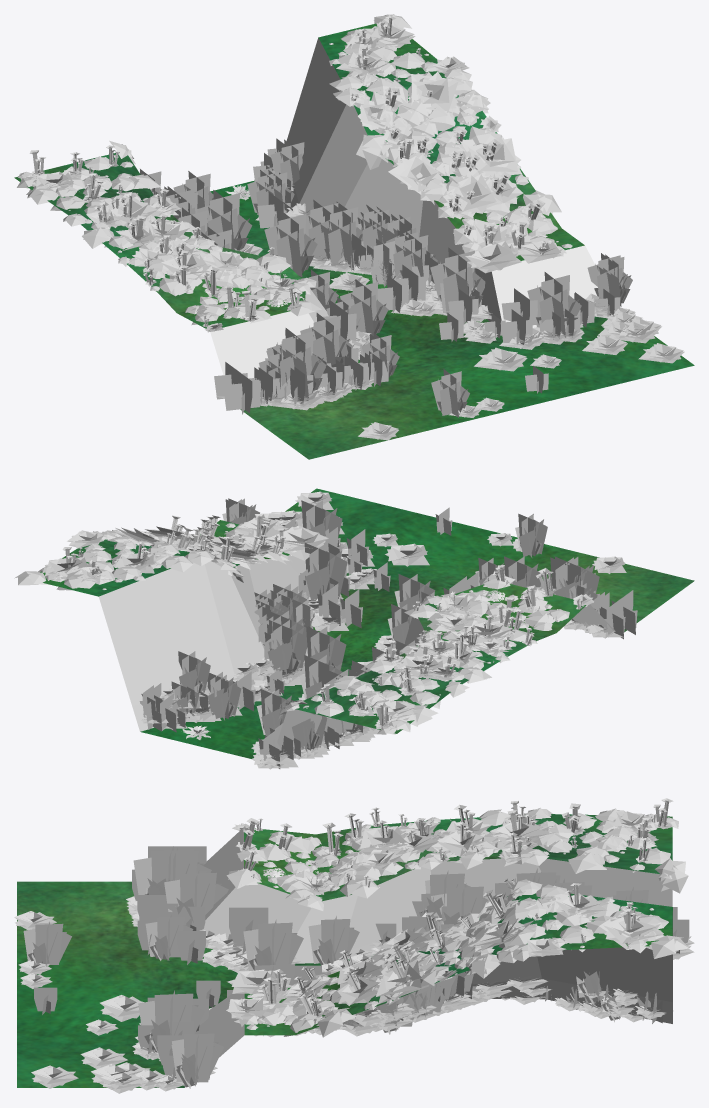
File: lowpoly_ground.fbx
The picture shows the model from 3 angles, top to bottom: view 1: azimuth 30°, elevation 25°; view 2: azimuth 150°, elevation 25°; view 3: azimuth 270°, elevation 25°; orthographic projection. The views are drawn at different scales.
Visible parts, largest first — view 1: Plane.008, Plane.008|plateA_particle|Dupli|378, Plane.008|plateA_particle|Dupli|526, Plane.008|plateA_particle|Dupli|556, Plane.008|plateA_particle|Dupli|591, Plane.008|plateA_particle|Dupli|629, Plane.008|plateA_particle|Dupli|483, Plane.008|plateA_particle|Dupli|537, Plane.008|plateA_particle|Dupli|731, Plane.008|plateC_particle|Dupli|44.3, Plane.008|plateC_particle|Dupli|46.3, Plane.008|plateA_particle|Dupli|580 (+21 smaller); view 2: Plane.008, Plane.008|plateA_particle|Dupli|526, Plane.008|plateA_particle|Dupli|471, Plane.008|plateA_particle|Dupli|378, Plane.008|plateC_particle|Dupli|23.3, Plane.008|plateA_particle|Dupli|580, Plane.008|plateA_particle|Dupli|556, Plane.008|plateA_particle|Dupli|409, Plane.008|plateA_particle|Dupli|666, Plane.008|plateA_particle|Dupli|640, Plane.008|plateA_particle|Dupli|629, Plane.008|plateA_particle|Dupli|537 (+22 smaller); view 3: Plane.008, Plane.008|plateA_particle|Dupli|537, Plane.008|plateA_particle|Dupli|556, Plane.008|plateA_particle|Dupli|731, Plane.008|plateA_particle|Dupli|672, Plane.008|plateA_particle|Dupli|736, Plane.008|plateA_particle|Dupli|603, Plane.008|plateA_particle|Dupli|580, Plane.008|plateA_particle|Dupli|420, Plane.008|plateA_particle|Dupli|530, Plane.008|plateC_particle|Dupli|44.3, Plane.008|plateB_particle|Dupli|708 (+35 smaller).
Part boxes in pixels (x1,y1,x2,y2): Plane.008: (14, 23, 694, 459); Plane.008|plateA_particle|Dupli|378: (264, 211, 317, 276); Plane.008|plateA_particle|Dupli|526: (430, 247, 485, 313); Plane.008|plateA_particle|Dupli|556: (527, 272, 581, 337); Plane.008|plateA_particle|Dupli|591: (266, 330, 325, 400); Plane.008|plateA_particle|Dupli|629: (197, 190, 252, 250); Plane.008|plateA_particle|Dupli|483: (324, 204, 362, 270); Plane.008|plateA_particle|Dupli|537: (340, 279, 388, 335); Plane.008|plateA_particle|Dupli|731: (300, 313, 351, 365); Plane.008|plateC_particle|Dupli|44.3: (459, 136, 521, 176); Plane.008|plateC_particle|Dupli|46.3: (408, 71, 458, 115); Plane.008|plateA_particle|Dupli|580: (431, 369, 469, 417); Plane.008: (40, 488, 694, 758); Plane.008|plateA_particle|Dupli|526: (304, 542, 347, 599); Plane.008|plateA_particle|Dupli|471: (268, 620, 307, 678); Plane.008|plateA_particle|Dupli|378: (305, 626, 346, 670); Plane.008|plateC_particle|Dupli|23.3: (267, 525, 328, 560); Plane.008|plateA_particle|Dupli|580: (515, 513, 547, 557); Plane.008|plateA_particle|Dupli|556: (297, 500, 342, 537); Plane.008|plateA_particle|Dupli|409: (207, 675, 241, 720); Plane.008|plateA_particle|Dupli|666: (178, 651, 210, 693); Plane.008|plateA_particle|Dupli|640: (256, 689, 291, 736); Plane.008|plateA_particle|Dupli|629: (299, 655, 342, 699); Plane.008|plateA_particle|Dupli|537: (394, 574, 435, 610); Plane.008: (17, 814, 672, 1087); Plane.008|plateA_particle|Dupli|537: (243, 919, 303, 970); Plane.008|plateA_particle|Dupli|556: (138, 990, 205, 1052); Plane.008|plateA_particle|Dupli|731: (164, 869, 228, 922); Plane.008|plateA_particle|Dupli|672: (171, 1037, 221, 1088); Plane.008|plateA_particle|Dupli|736: (308, 916, 359, 965); Plane.008|plateA_particle|Dupli|603: (138, 847, 211, 894); Plane.008|plateA_particle|Dupli|580: (23, 921, 71, 966); Plane.008|plateA_particle|Dupli|420: (431, 883, 488, 924); Plane.008|plateA_particle|Dupli|530: (145, 914, 193, 960); Plane.008|plateC_particle|Dupli|44.3: (374, 960, 437, 1004); Plane.008|plateB_particle|Dupli|708: (229, 907, 268, 954).
Bounding box in the file's own units: 8.04 × 10.44 × 2.92.
